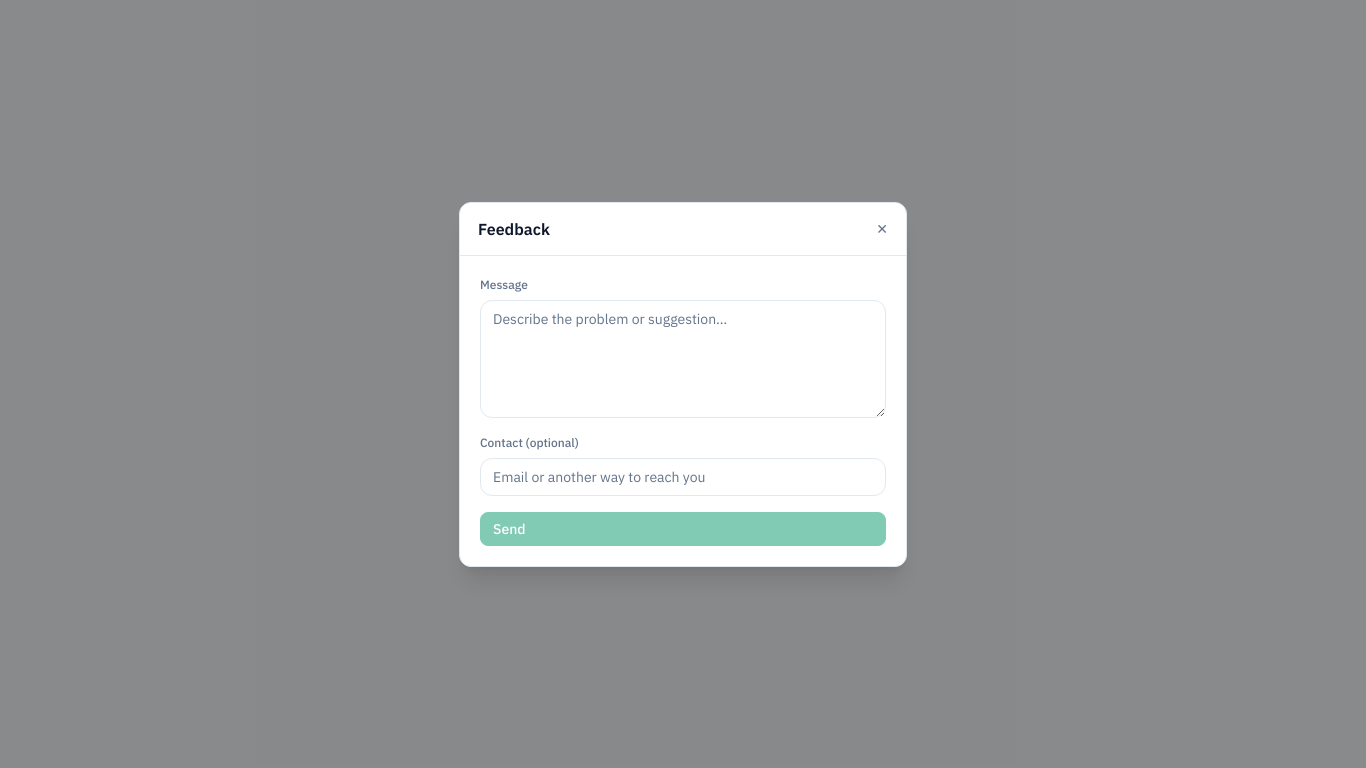
FeedbackModal › shows a localized error and keeps the form editable when the send fails
Type "help" into the text box labelled "Message".
click(683, 358); type("help")  # box left=480, top=300, right=886, bottom=418
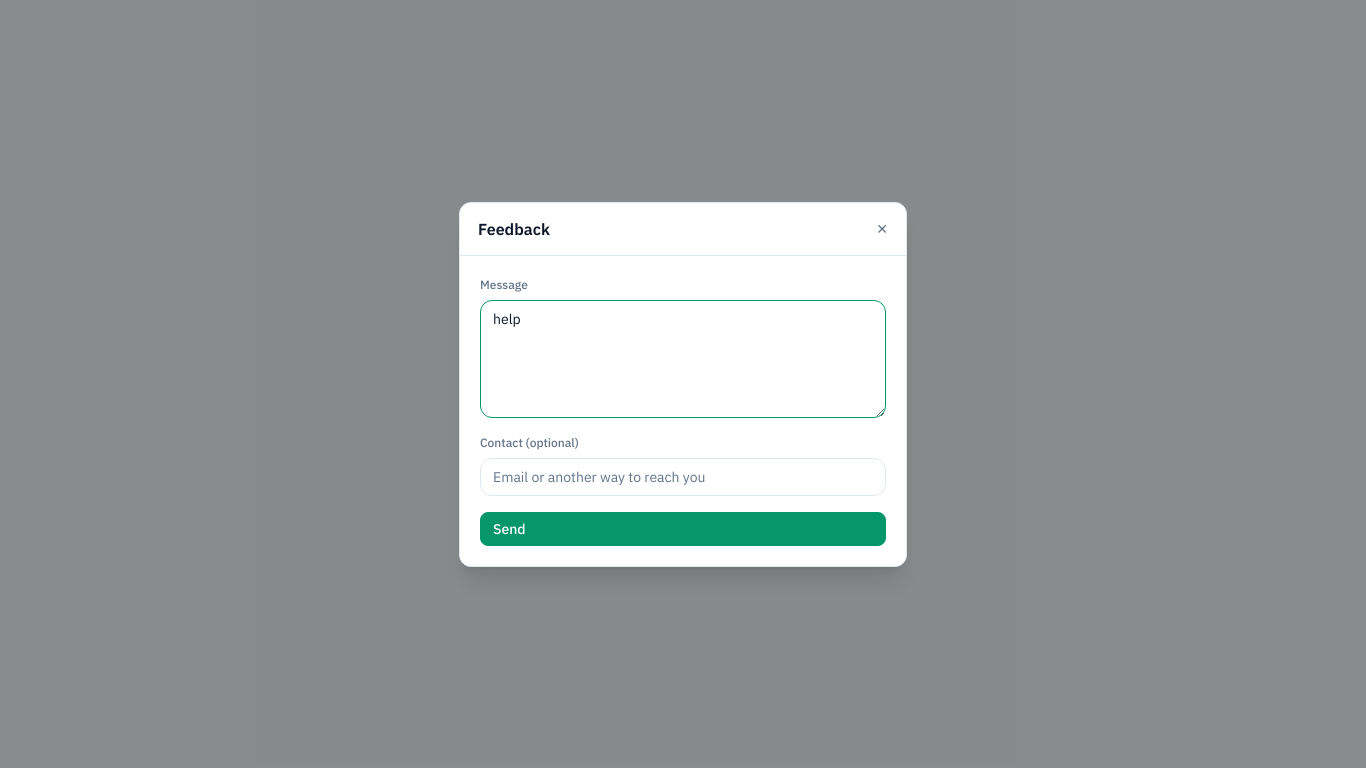
Click the button "Send".
click(509, 528)  # box left=480, top=512, right=886, bottom=546
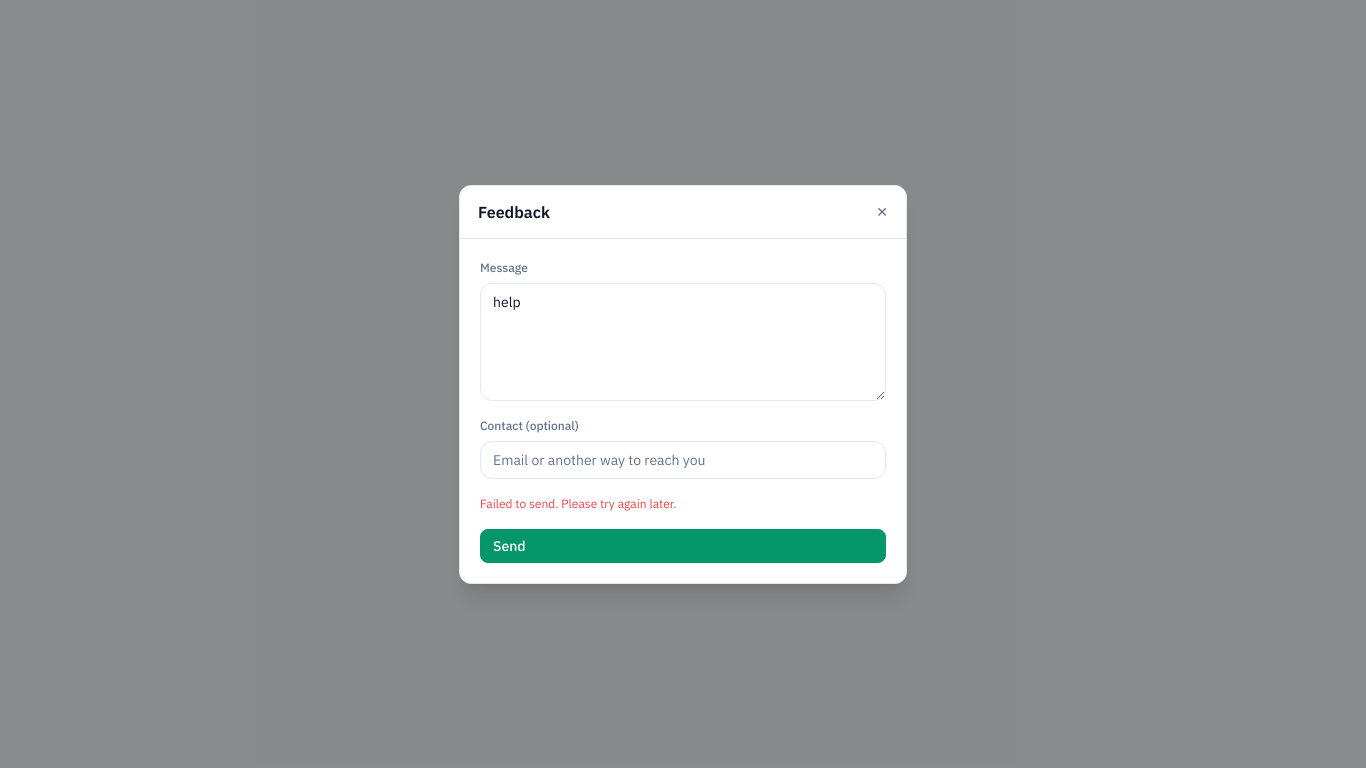
Expected: the button "Send" is enabled, left=480, top=528, right=886, bottom=562
Expected: the text "Failed to send. Please try again later." is shown, left=480, top=496, right=677, bottom=510
